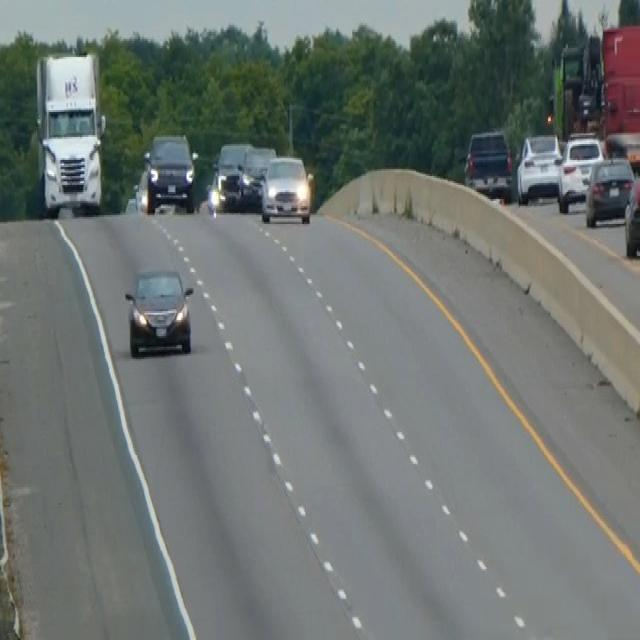car: (207, 137, 313, 226), (123, 265, 195, 357), (145, 130, 196, 213), (556, 132, 604, 212), (260, 153, 312, 224), (584, 153, 634, 226), (463, 126, 513, 199), (515, 130, 562, 204), (212, 138, 252, 210), (238, 144, 276, 208), (623, 172, 639, 256)
lorry: (33, 48, 108, 217)
